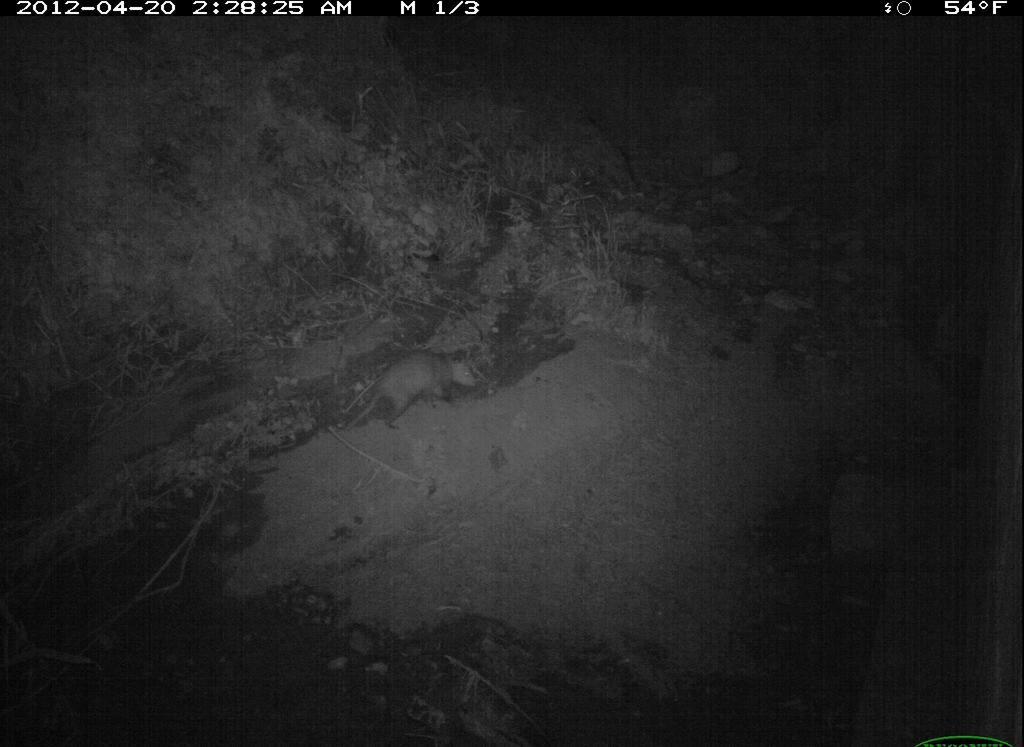opossum: (351, 354, 510, 456)
